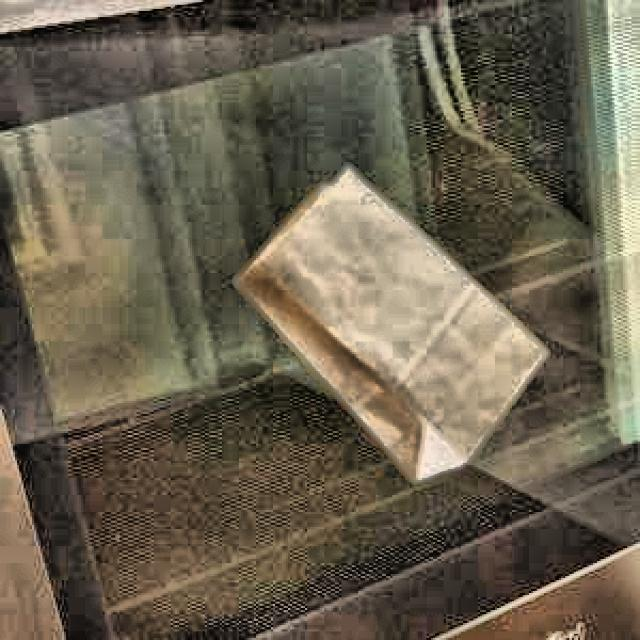Paper-bag: (222, 154, 548, 484)
